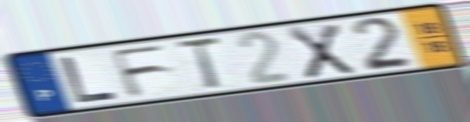2: (349, 15, 417, 73), (236, 29, 294, 88)
F: (107, 42, 171, 101)
L: (57, 54, 122, 105)
T: (171, 35, 225, 92)
X: (284, 22, 358, 81)
